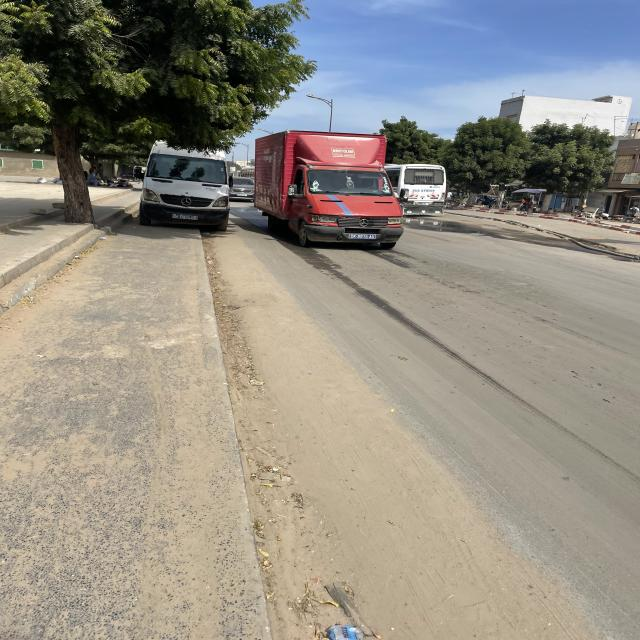bus tata: (386, 165, 448, 216)
fourgon: (256, 131, 404, 249), (141, 144, 231, 232)
particulier: (231, 179, 256, 201)
